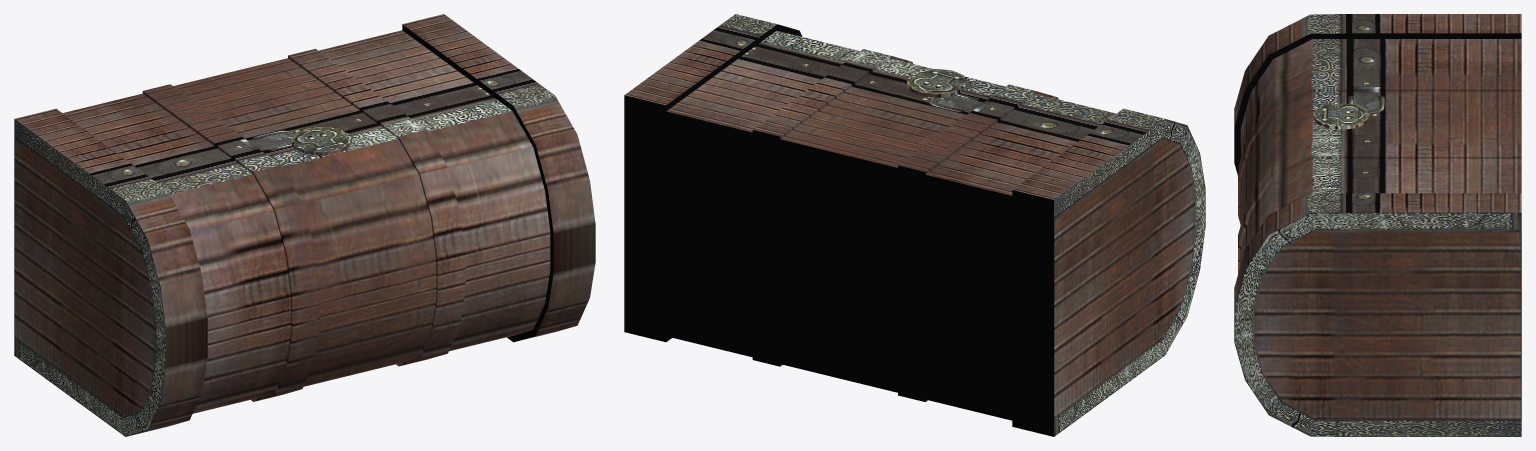
File: chest_model.fbx
The picture shows the model from 3 angles, left to right: view 1: azimuth 30°, elevation 25°; view 2: azimuth 150°, elevation 25°; view 3: azimuth 270°, elevation 25°; orthographic projection. The views are drawn at different scales.
Visible parts, largest first — view 1: treasure_chest; view 2: treasure_chest; view 3: treasure_chest.
Part boxes in pixels (bbox=[...]): treasure_chest: bbox=[14, 14, 595, 436]; treasure_chest: bbox=[624, 14, 1205, 436]; treasure_chest: bbox=[1234, 14, 1521, 436].
Size of the model in its own units: 0.0781 by 0.0411 by 0.0477.
1 material, 1 textured.
